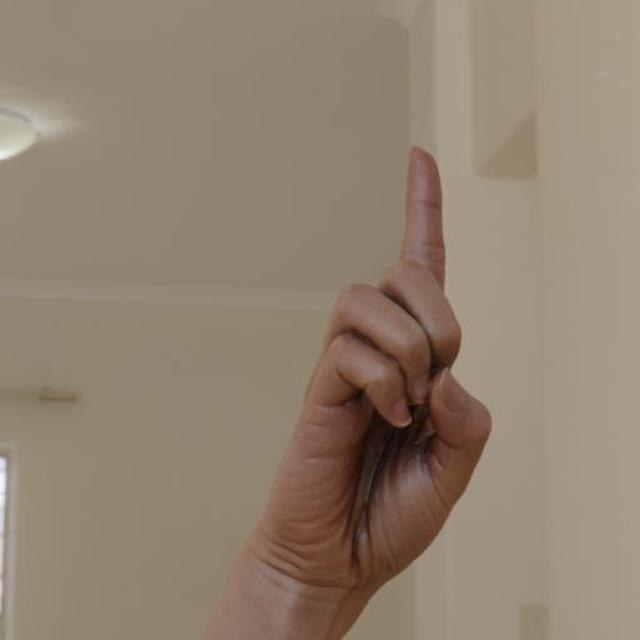D: (245, 142, 494, 590)
